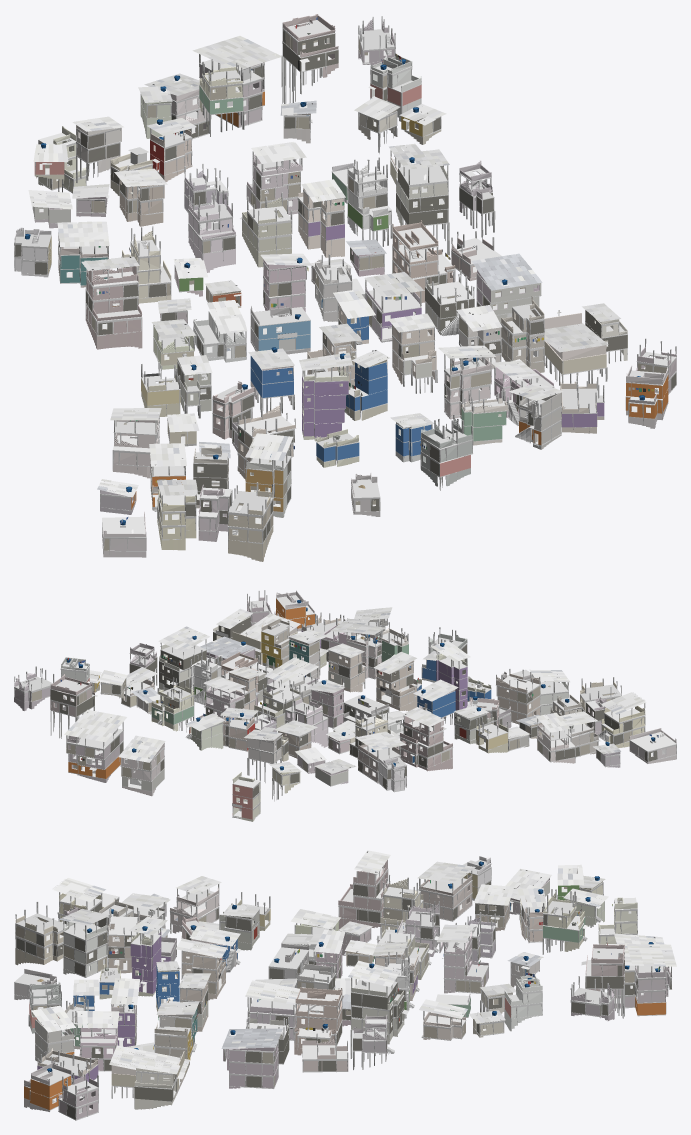
3 views of the same model, one above another, from view 1: azimuth 30°, elevation 25°; view 2: azimuth 150°, elevation 25°; view 3: azimuth 270°, elevation 25° (orthographic). The views are drawn at different scales.
Visible parts, largest first — view 1: T_24_26; view 2: T_24_26; view 3: T_24_26.
Boxes of the visible parts, x1,y1,x2,y2 form: T_24_26: [14, 14, 676, 561]; T_24_26: [14, 590, 676, 821]; T_24_26: [14, 850, 676, 1120].
Bounding box in the file's own units: 124 × 42.42 × 139.
